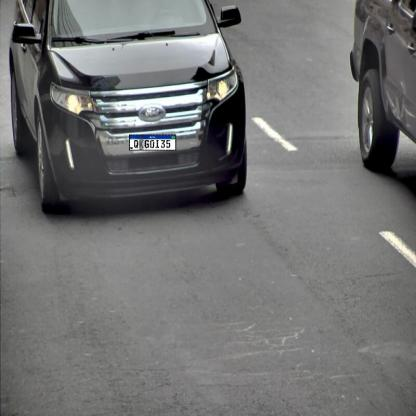PlacaM: (129, 134, 176, 150)
